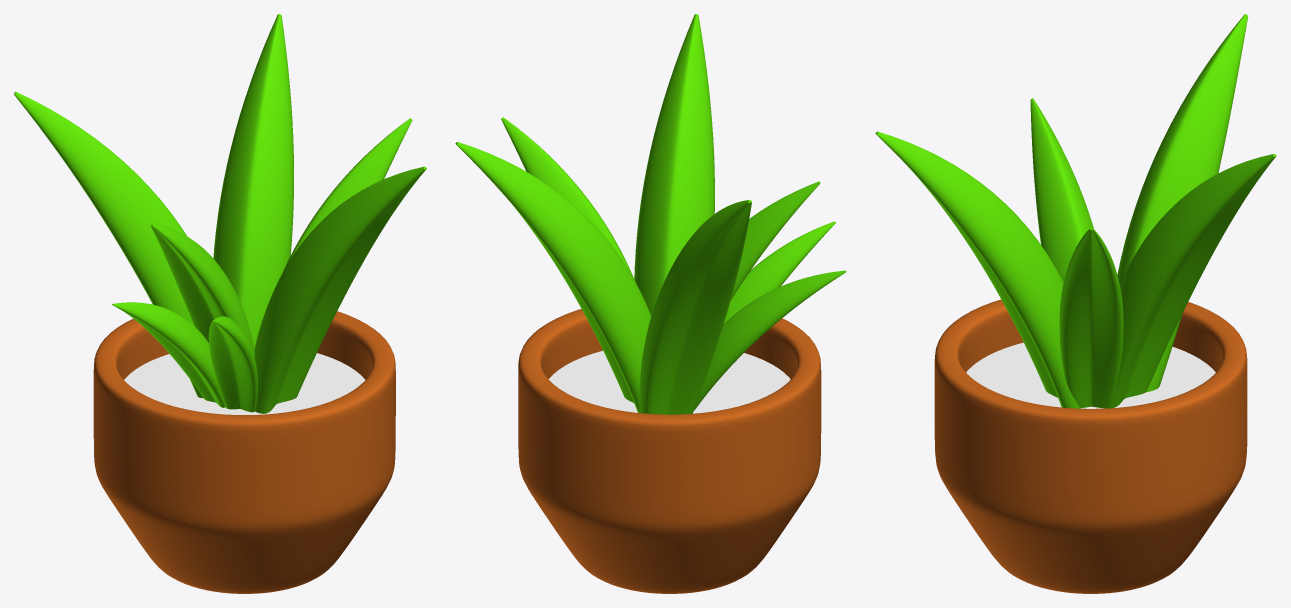
File: result.gltf
3 views of the same model, side by side, from view 1: azimuth 30°, elevation 25°; view 2: azimuth 150°, elevation 25°; view 3: azimuth 270°, elevation 25° (orthographic). The views are drawn at different scales.
Visible parts, largest first — view 1: Vert, NurbsPath.001, NurbsPath.004, NurbsPath.003, Circle, NurbsPath.002, NurbsPath.005, NurbsPath.006, NurbsPath; view 2: Vert, NurbsPath.003, NurbsPath.004, NurbsPath.001, Circle, NurbsPath.005, NurbsPath, NurbsPath.006, NurbsPath.002; view 3: Vert, NurbsPath.001, NurbsPath.004, NurbsPath.003, NurbsPath, NurbsPath.002, Circle.
Boxes of the visible parts, x1,y1,x2,y2 form: Vert: (93, 311, 395, 593); NurbsPath.001: (213, 14, 293, 347); NurbsPath.004: (254, 166, 426, 413); NurbsPath.003: (14, 92, 203, 398); Circle: (124, 353, 365, 414); NurbsPath.002: (150, 224, 254, 357); NurbsPath.005: (112, 302, 225, 407); NurbsPath.006: (208, 316, 257, 412); NurbsPath: (282, 118, 412, 273); Vert: (518, 309, 821, 593); NurbsPath.003: (639, 200, 751, 414); NurbsPath.004: (634, 14, 714, 315); NurbsPath.001: (455, 142, 651, 412); Circle: (548, 351, 790, 413); NurbsPath.005: (694, 270, 846, 410); NurbsPath: (501, 117, 634, 280); NurbsPath.006: (724, 221, 835, 323); NurbsPath.002: (731, 181, 820, 299); Vert: (934, 299, 1247, 593); NurbsPath.001: (1112, 154, 1276, 407); NurbsPath.004: (875, 131, 1079, 408); NurbsPath.003: (1117, 14, 1248, 392); NurbsPath: (1059, 227, 1123, 408); NurbsPath.002: (1030, 98, 1093, 282); Circle: (966, 342, 1215, 408).
Bounding box in the file's own units: 2.48 × 3.32 × 2.57.
